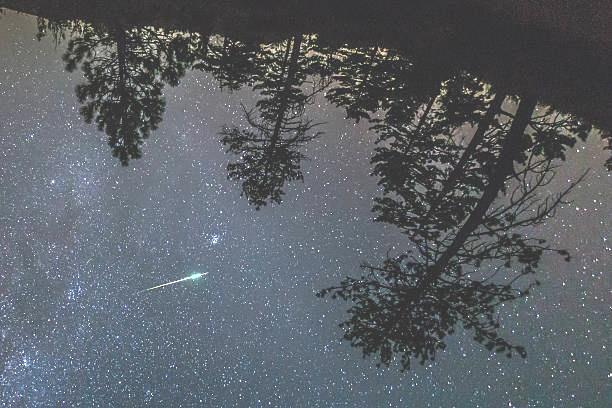meteorite: (126, 262, 221, 301)
